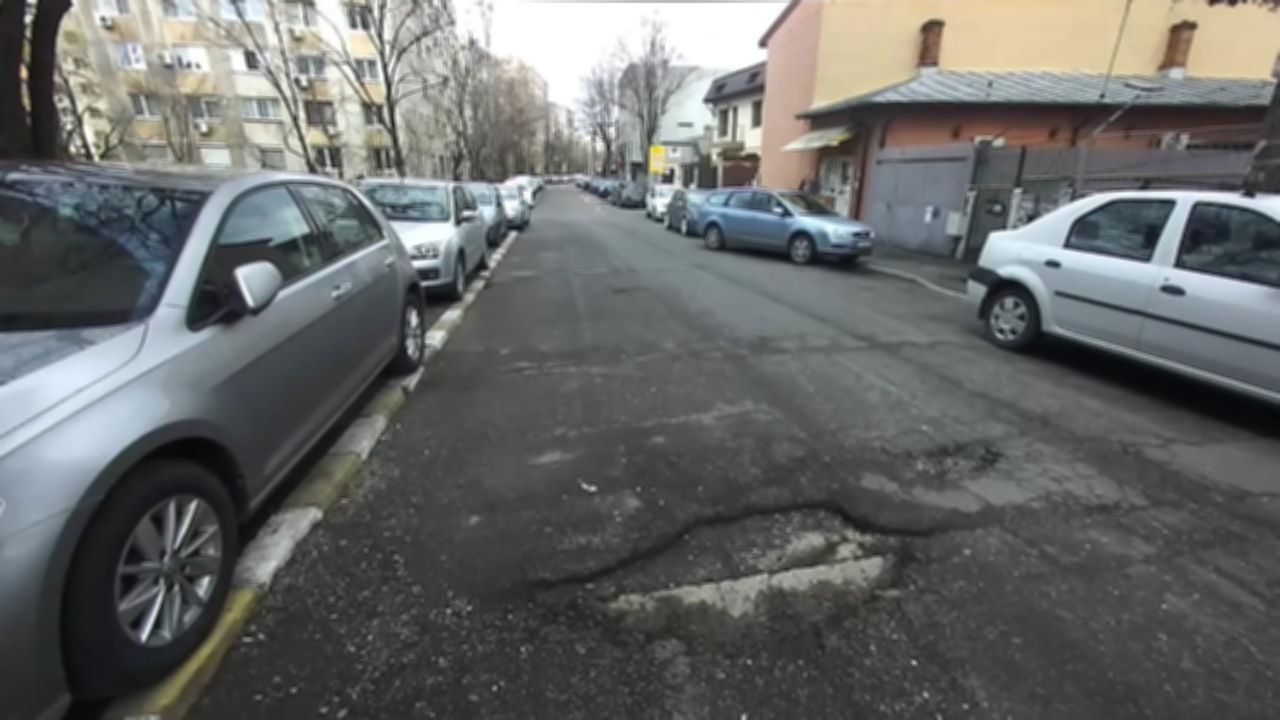pothole: (509, 491, 940, 664), (880, 432, 1016, 483), (499, 357, 583, 378)
